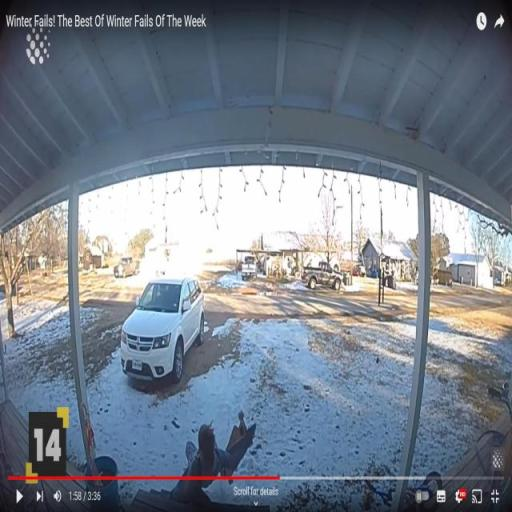Fall: (159, 403, 258, 509)
